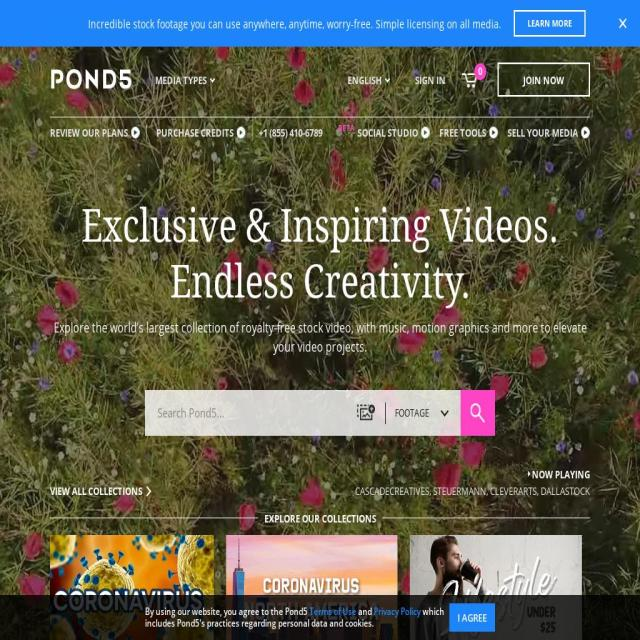button: (590, 518, 640, 640), (402, 42, 459, 116), (498, 62, 590, 96), (329, 118, 430, 148), (150, 118, 249, 148), (50, 118, 143, 148), (498, 118, 590, 148), (430, 118, 498, 148), (513, 10, 586, 37), (462, 72, 485, 88)
field: (145, 389, 356, 436)
heading: (50, 318, 590, 357), (264, 510, 376, 528)
image: (50, 535, 222, 640), (234, 535, 406, 640), (418, 535, 590, 640), (50, 69, 133, 90), (54, 8, 76, 36), (357, 404, 375, 422), (471, 402, 485, 422), (462, 72, 479, 88), (131, 127, 140, 139), (237, 127, 246, 139), (421, 127, 430, 139), (489, 127, 498, 139), (581, 127, 590, 139)
link: (355, 482, 429, 498), (258, 125, 322, 140), (433, 482, 486, 498), (541, 482, 590, 498), (490, 482, 537, 498), (309, 604, 356, 618), (374, 604, 421, 618)
text: (81, 198, 559, 252), (170, 254, 470, 308), (75, 6, 514, 41), (145, 603, 444, 630), (145, 604, 309, 618), (513, 10, 586, 37), (50, 482, 144, 498), (50, 125, 128, 141), (156, 125, 234, 141), (508, 125, 578, 141), (532, 465, 590, 483), (385, 402, 429, 424), (358, 125, 418, 141), (155, 72, 207, 88), (439, 125, 486, 141), (348, 72, 382, 88), (415, 72, 446, 88), (457, 609, 487, 625), (356, 604, 374, 618), (474, 63, 487, 80), (429, 482, 433, 498), (486, 482, 490, 498), (537, 482, 541, 498)
